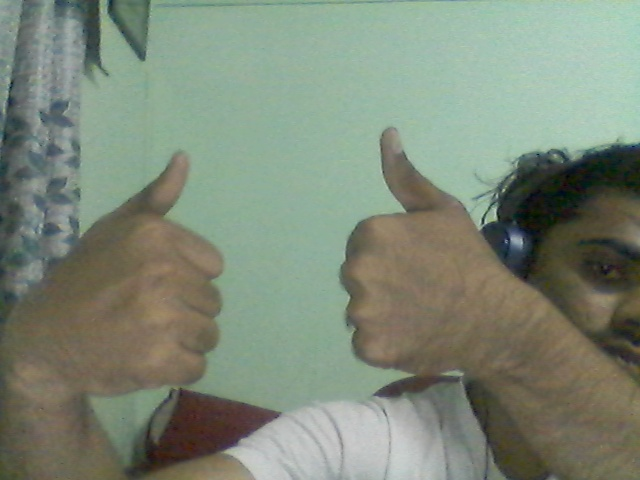Thank You: (25, 107, 561, 432)
